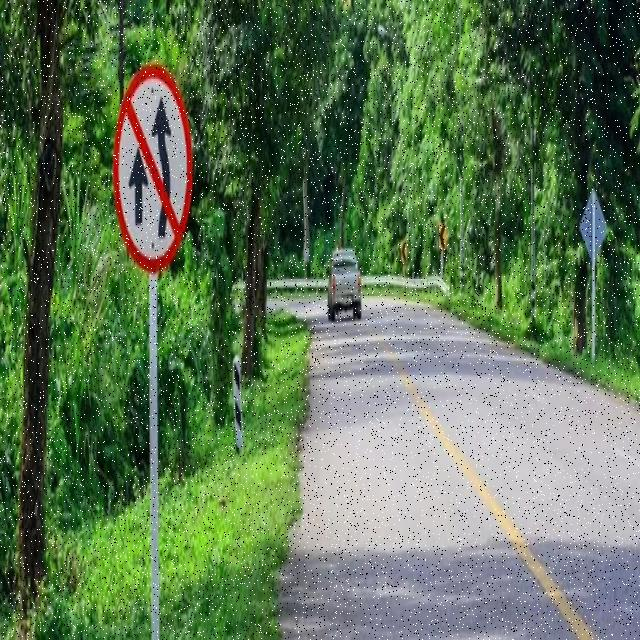No_overtaking: (110, 66, 198, 320)
